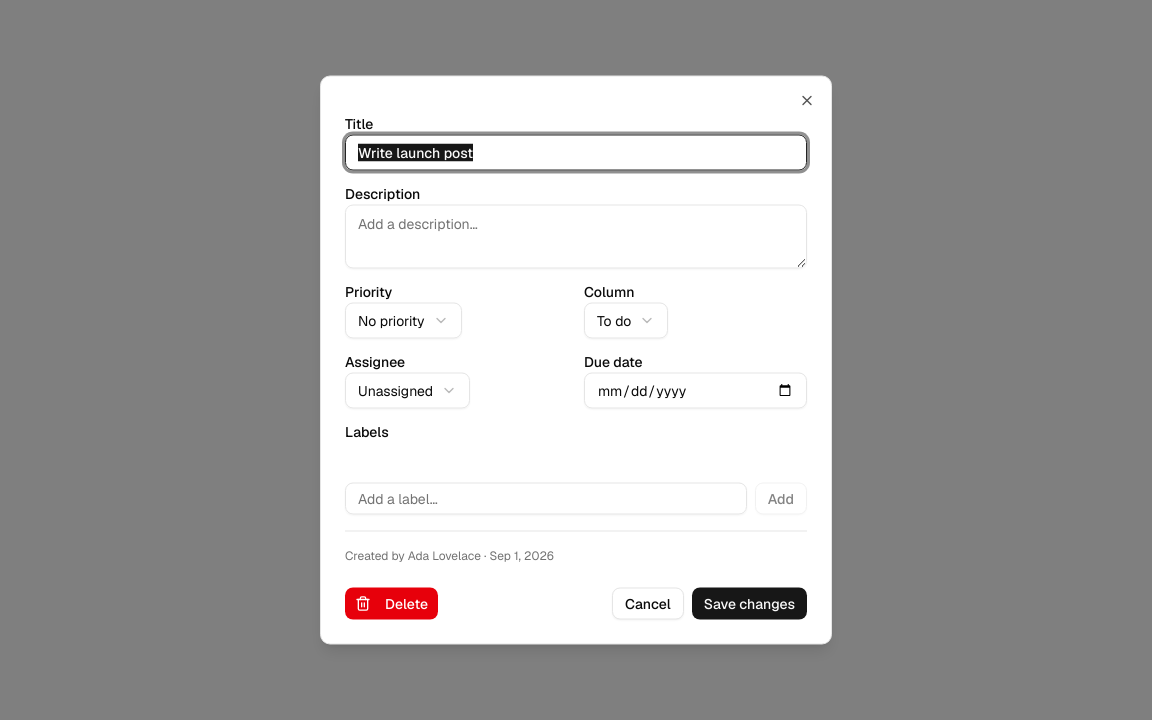
Test: TaskDetailDialog empty title › flags it on Save, focuses it, and clears the message once it has text
The image size is (1152, 720).
Clear the field labelled "Title" at (576, 152), box [345,134,807,170]
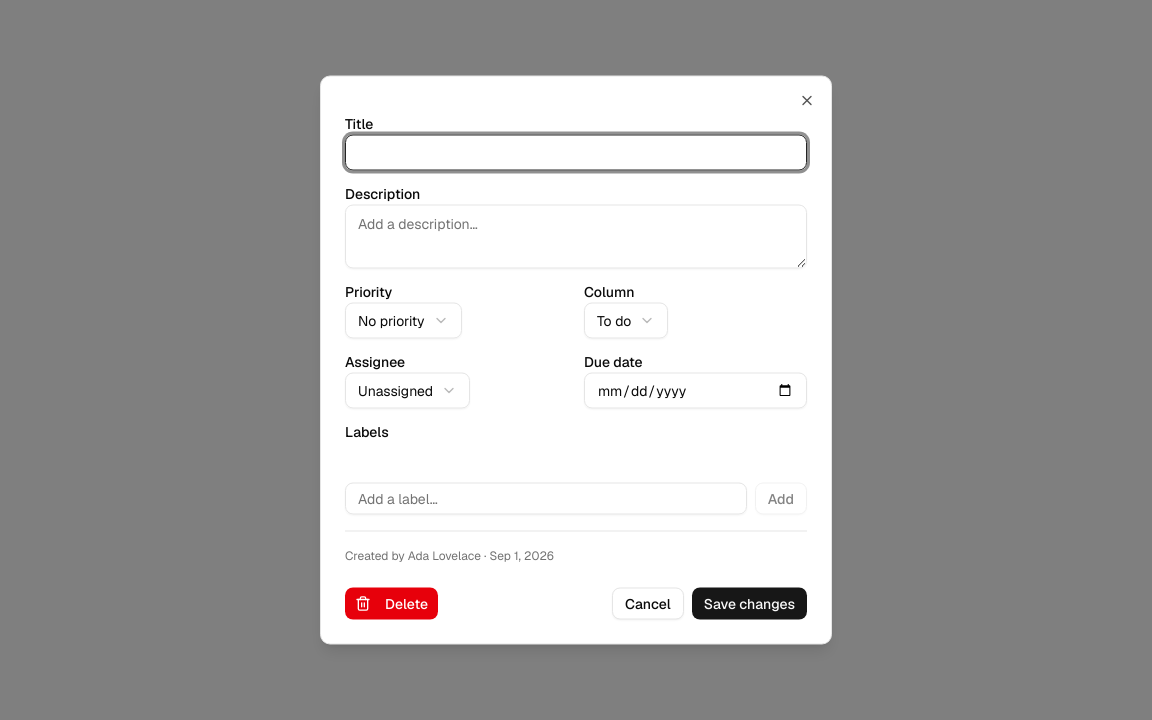
Click the button "Save changes" at (749, 604), box [692,588,807,620]
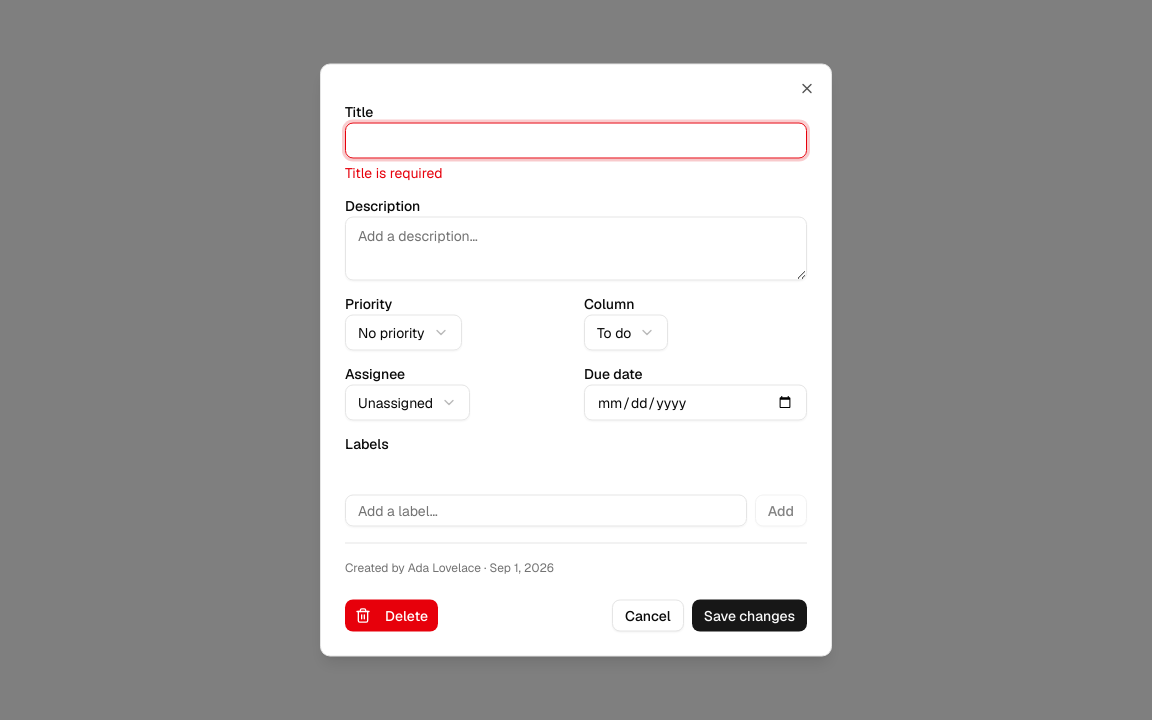
expect the field labelled "Title" is marked as invalid: met
Type "W" into the field labelled "Title" at (576, 140), box [345,122,807,158]
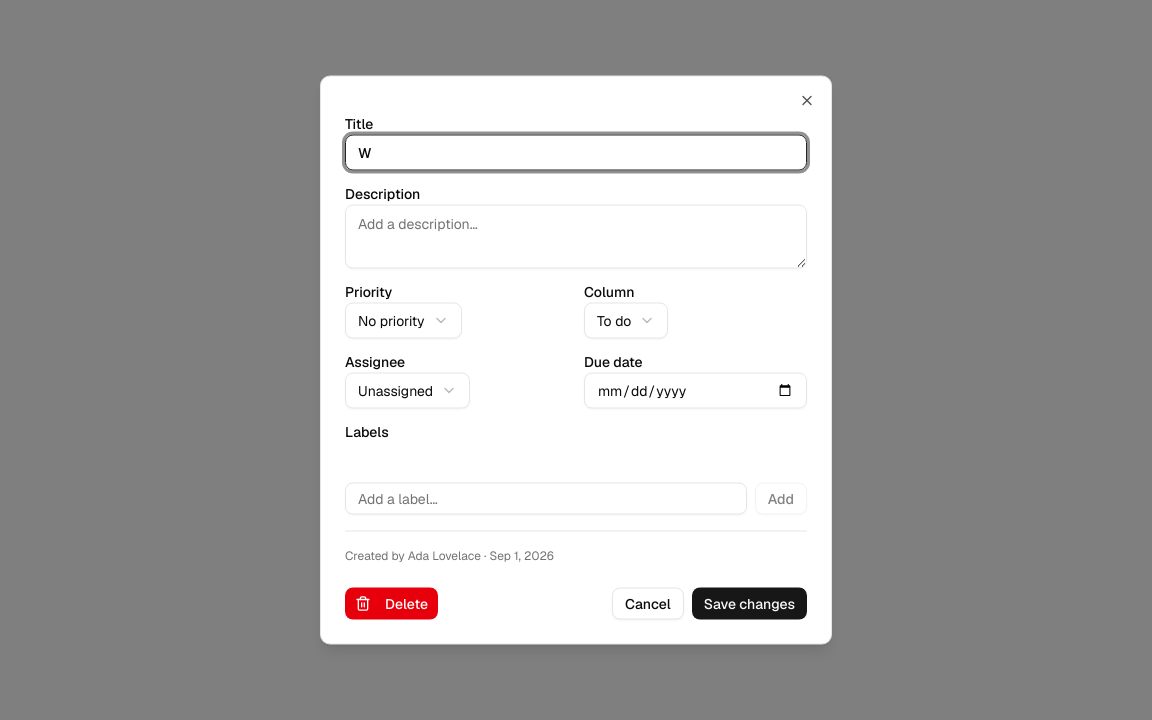
expect the text "Title is required" is gone: met
